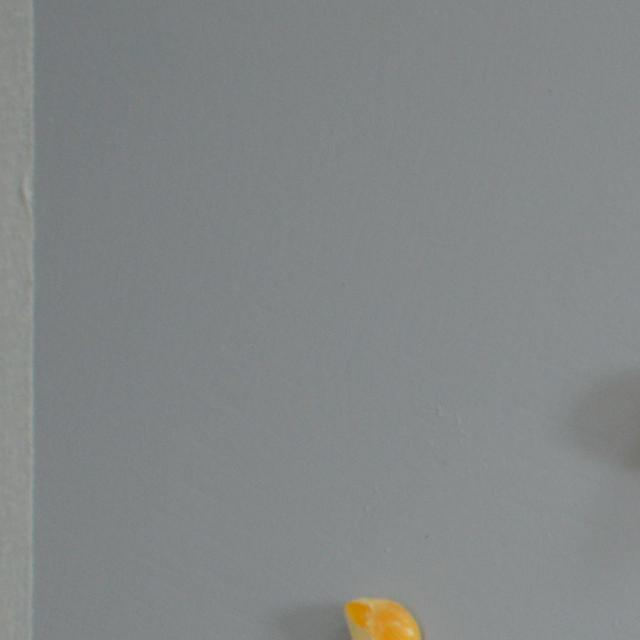pelicula: (317, 597, 422, 640)
